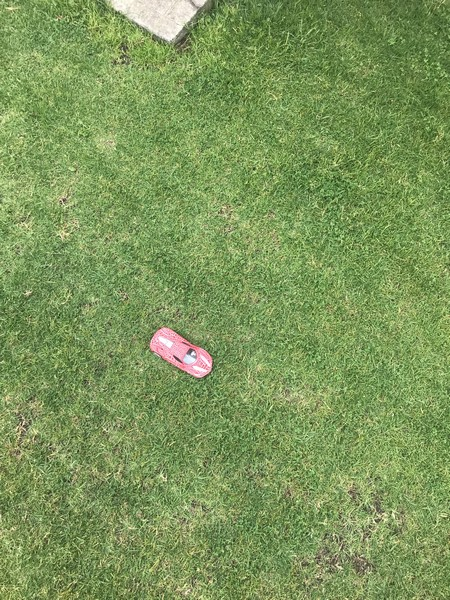RC: (148, 325, 215, 380)
